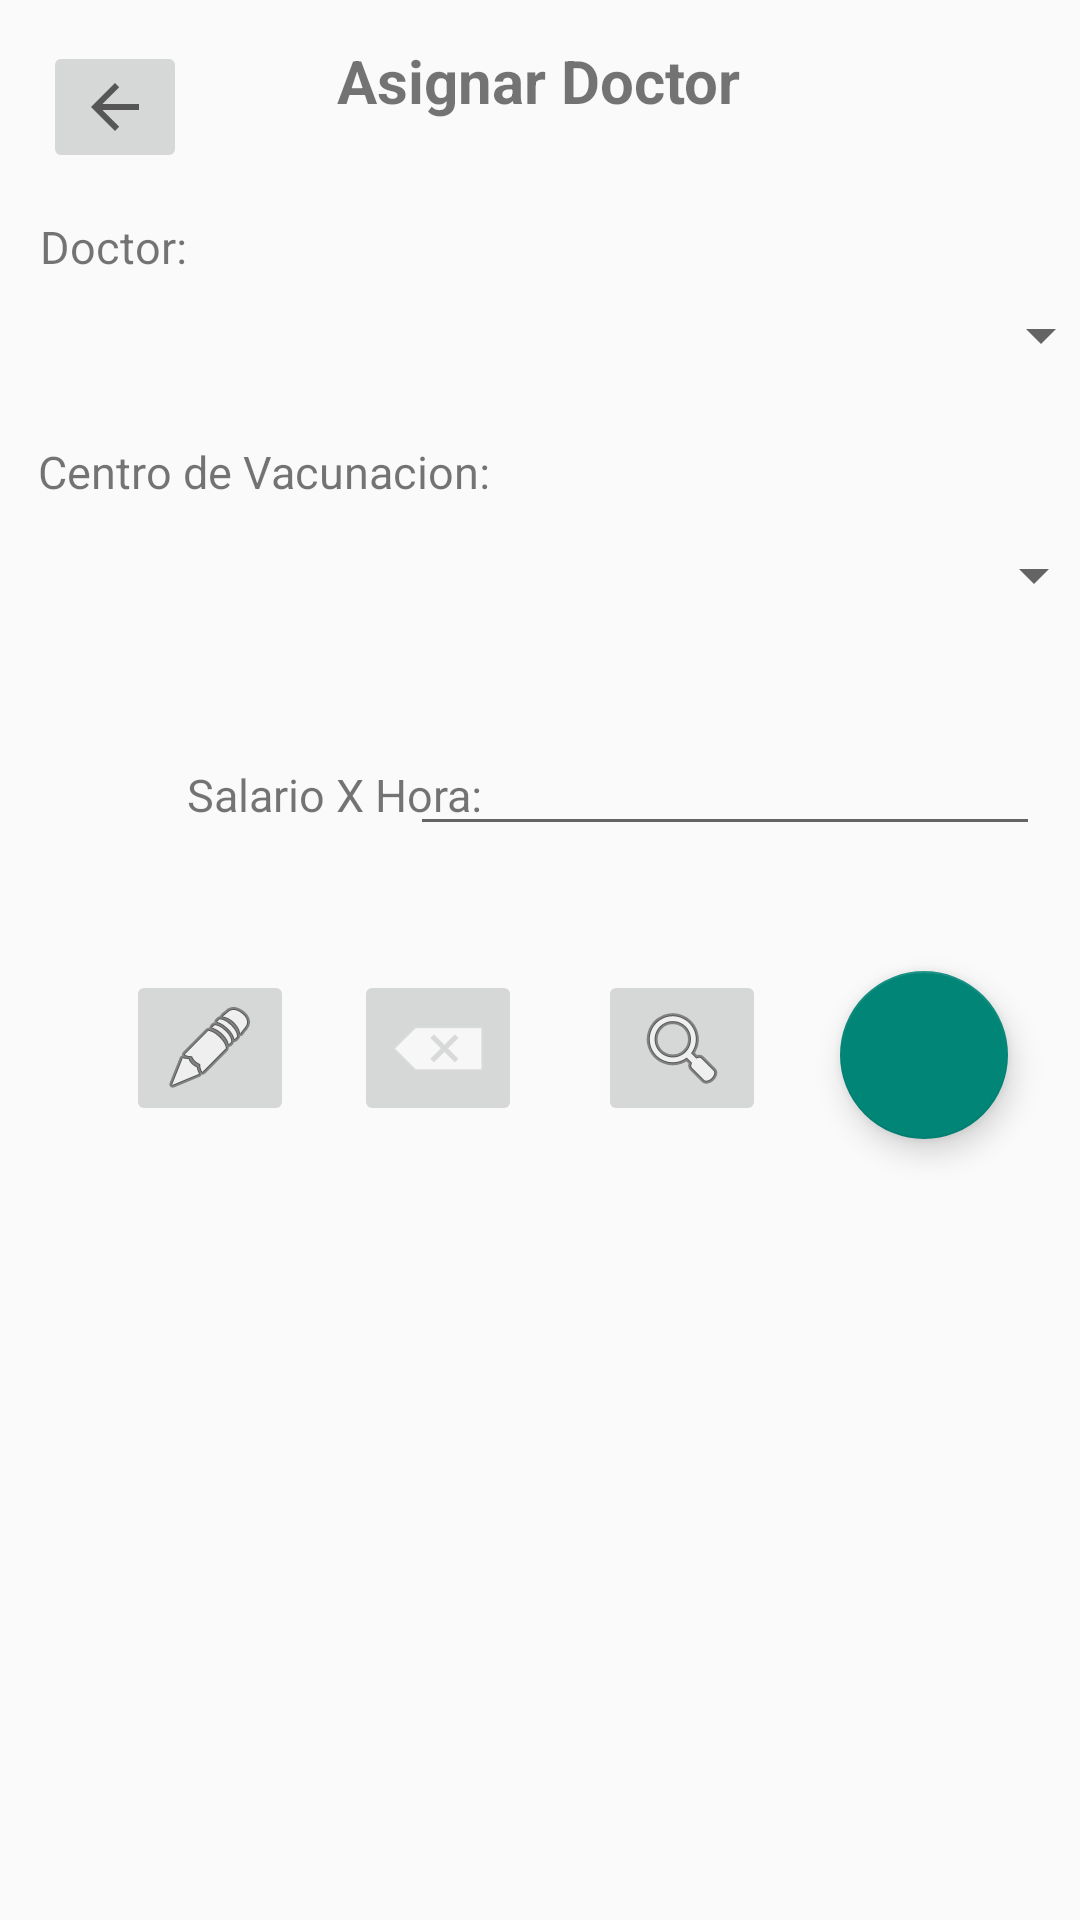

Named icons in this screenshot (1080w x 1920h) and their centers, point (x, y):
delete: point (438, 1048)
edit: point (210, 1048)
search: point (682, 1048)
